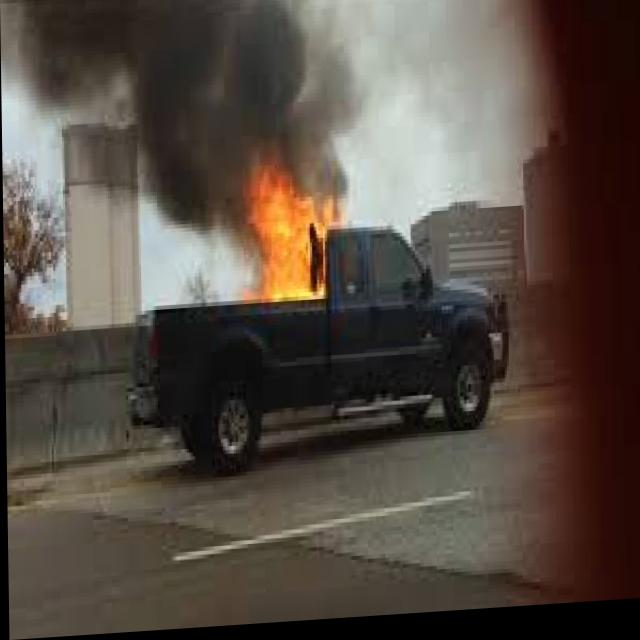fire: (224, 142, 349, 335)
